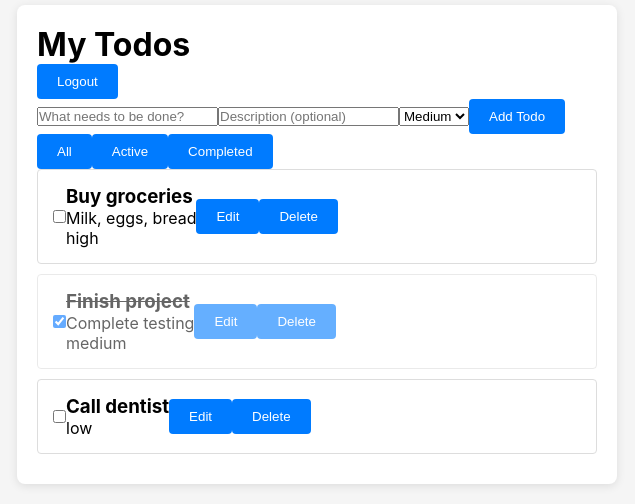
Test: TodoList Integration Tests › filters todos by status
Expected: the heading "Buy groceries" is shown, [66,185,196,208]
// Click "Completed" filter
Click the button "Completed".
click(220, 152)  # box [168,134,273,169]
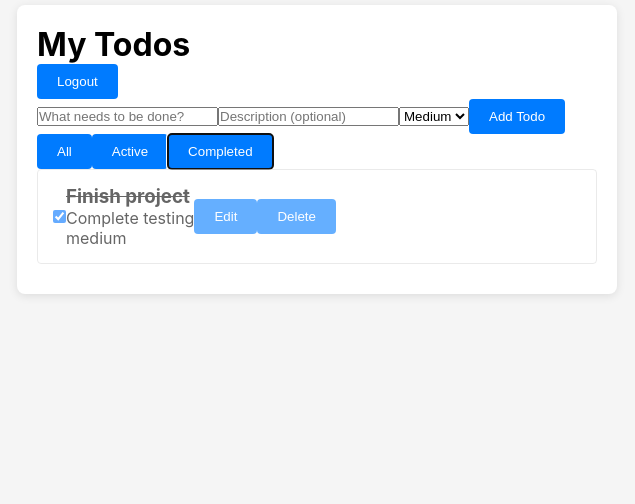
Expected: the heading "Finish project" is shown, [66,185,194,208]
Expected: the heading "Buy groceries" is gone
Expected: the heading "Call dentist" is gone
